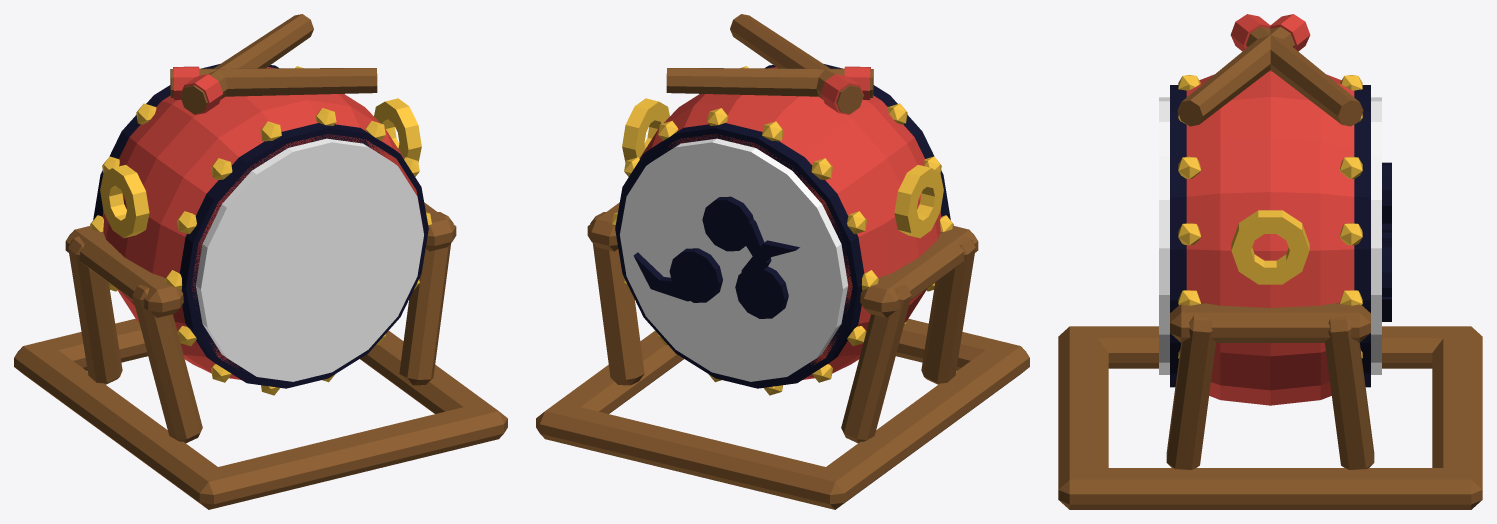
File: Prop_samurai_castle_TaikoDrum.glb
3 renders of one model, left to right at view 1: azimuth 30°, elevation 25°; view 2: azimuth 150°, elevation 25°; view 3: azimuth 270°, elevation 25°, orthographic. The views are drawn at different scales.
Parts seen in each view (by area): view 1: Wood_8A5A2B, HeadWhite_FFFFFF, ZoneRed_E0453C, Ink_0D0F2B, Gold_FFC83D; view 2: Wood_8A5A2B, HeadWhite_FFFFFF, ZoneRed_E0453C, Ink_0D0F2B, Gold_FFC83D; view 3: Wood_8A5A2B, ZoneRed_E0453C, Ink_0D0F2B, Gold_FFC83D, HeadWhite_FFFFFF.
Part boxes in pixels (x1,y1,x2,y2): Wood_8A5A2B: [14, 14, 507, 509]; HeadWhite_FFFFFF: [195, 138, 423, 381]; ZoneRed_E0453C: [102, 66, 423, 379]; Ink_0D0F2B: [93, 64, 428, 388]; Gold_FFC83D: [90, 66, 431, 395]; Wood_8A5A2B: [536, 14, 1029, 509]; HeadWhite_FFFFFF: [620, 138, 848, 381]; ZoneRed_E0453C: [639, 66, 941, 379]; Ink_0D0F2B: [615, 64, 950, 388]; Gold_FFC83D: [612, 66, 953, 395]; Wood_8A5A2B: [1058, 26, 1482, 509]; ZoneRed_E0453C: [1186, 14, 1354, 405]; Ink_0D0F2B: [1170, 85, 1391, 387]; Gold_FFC83D: [1178, 75, 1362, 358]; HeadWhite_FFFFFF: [1159, 97, 1381, 374].
Bounding box in the file's own units: 7.03 × 7.49 × 7.6.
